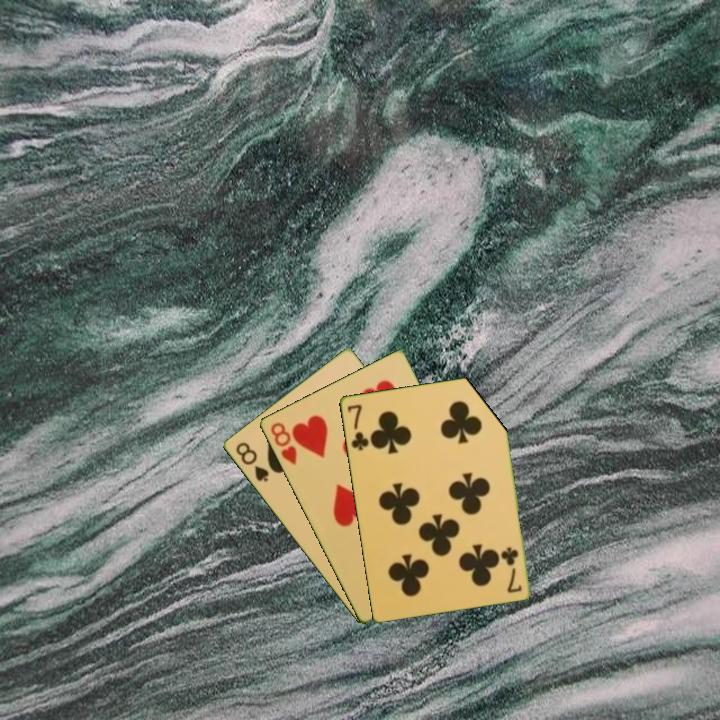7c: (343, 400, 371, 453), (499, 543, 524, 595)
8h: (267, 418, 299, 468)
8s: (232, 438, 271, 485)
